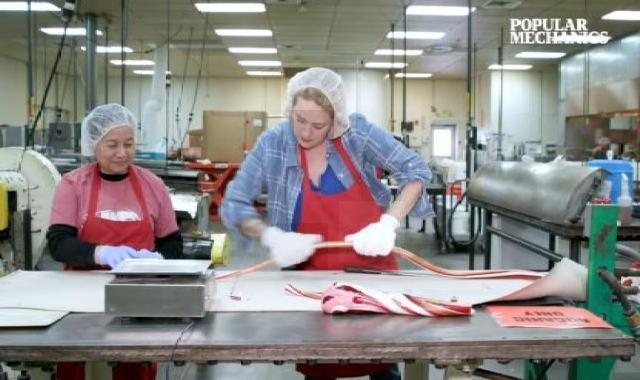apron: (340, 202, 405, 262), (255, 223, 329, 272), (96, 243, 159, 266)
gloves: (281, 63, 356, 140), (76, 100, 146, 160)
no_hairnet: (87, 138, 141, 176), (290, 110, 334, 154)
